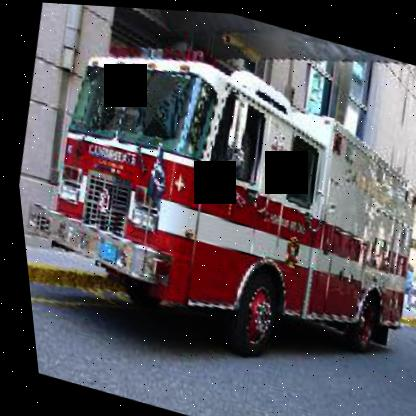emergency: (4, 8, 415, 404)
